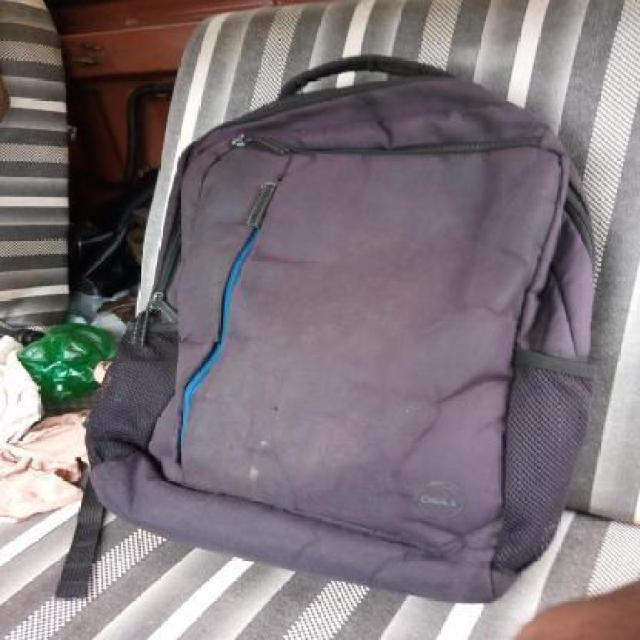backpack: (80, 51, 608, 609)
